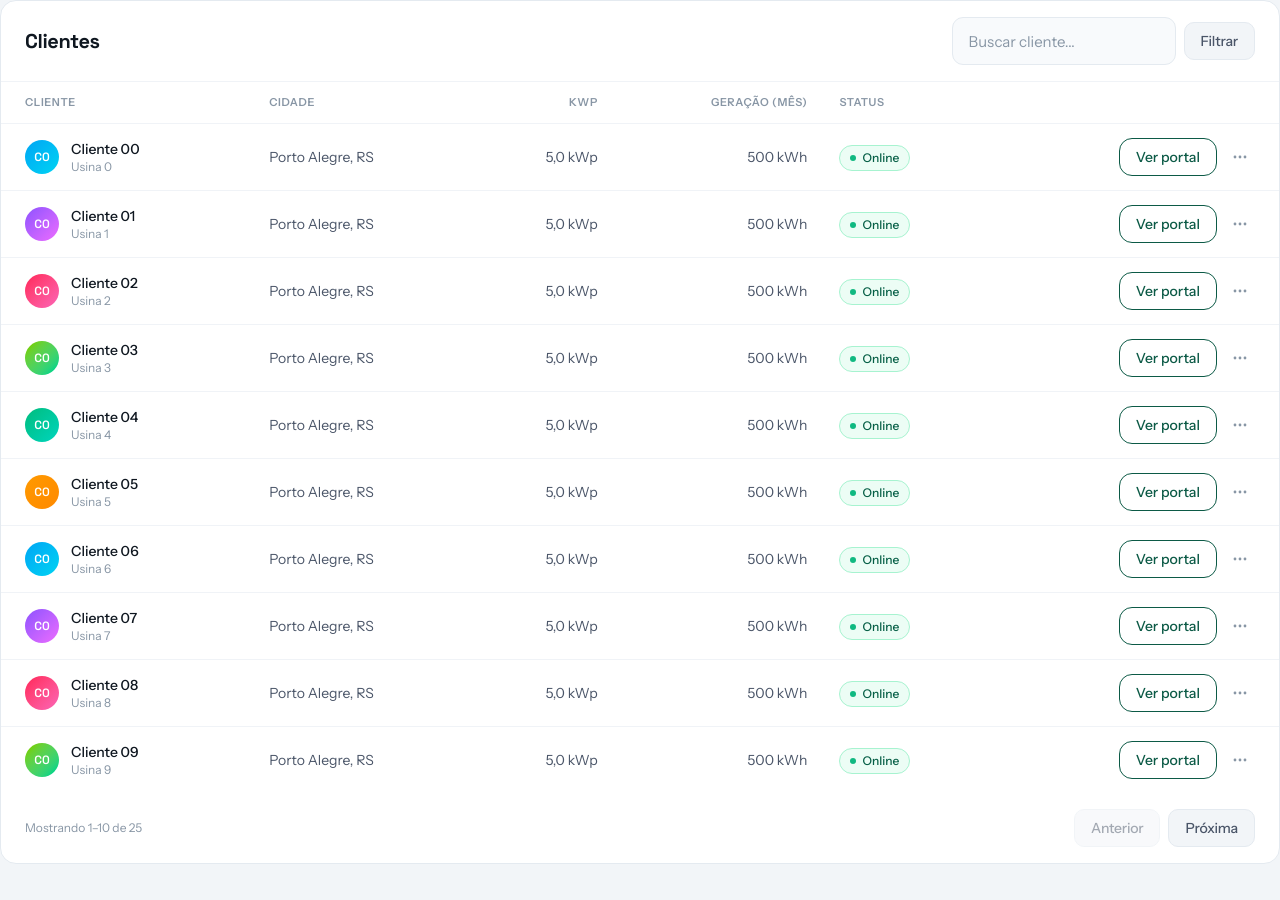
ClientsPanel — paginação › 'Anterior' começa desabilitado; 'Próxima' avança a página
The width and height of the screenshot is (1280, 900).
Check: the button "Anterior" is disabled, box [1074,808,1160,846]
Step 1. Click the button "Próxima" → (1212, 828), box [1168,808,1255,846]
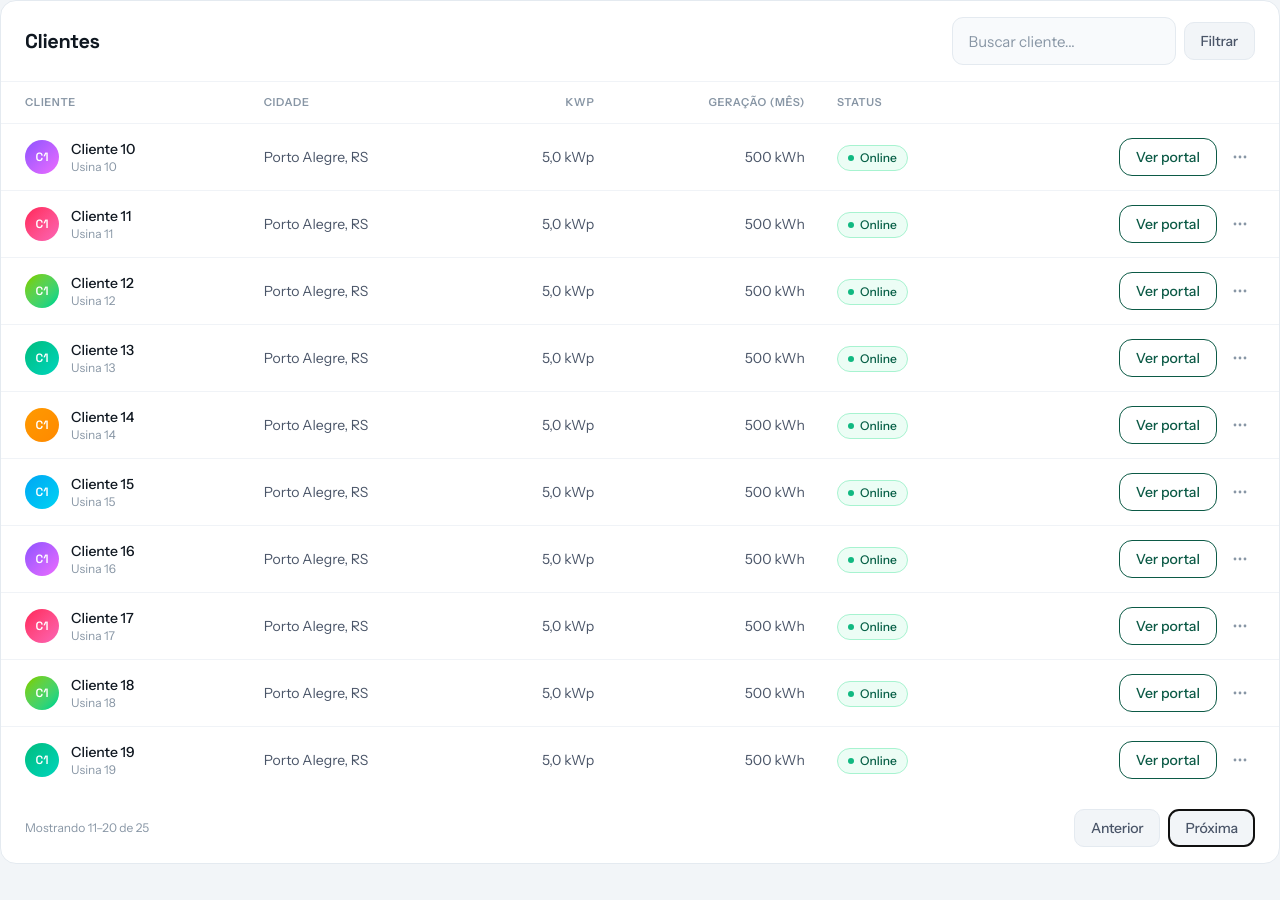
Check: the text "Cliente 10" is shown, box [71,138,135,158]
Check: the text "Cliente 00" is gone
Check: the text "Mostrando 11–20 de 25" is shown, box [25,820,149,836]
